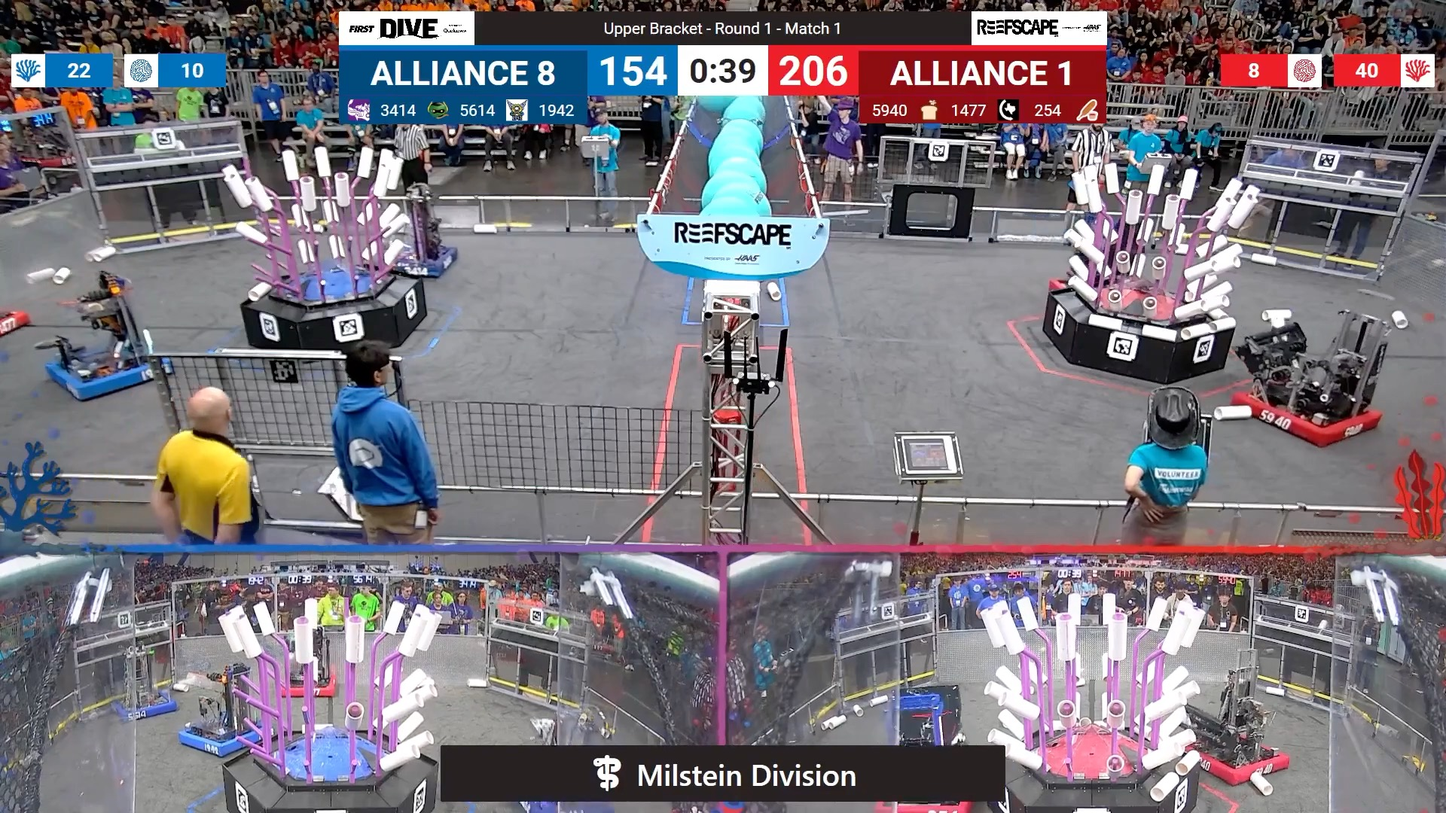bumpers: (1222, 374, 1389, 450), (32, 344, 176, 402), (1173, 735, 1295, 788), (174, 713, 276, 759), (377, 241, 465, 279), (110, 691, 190, 725), (0, 295, 36, 353)
